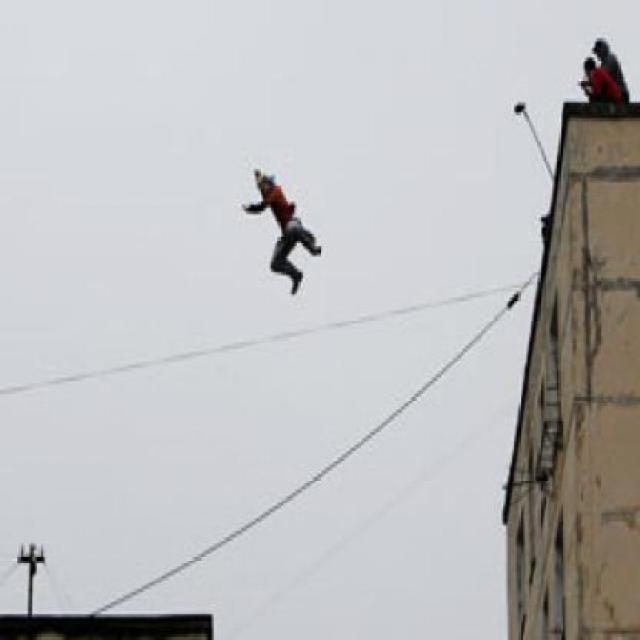fall: (235, 162, 323, 293)
